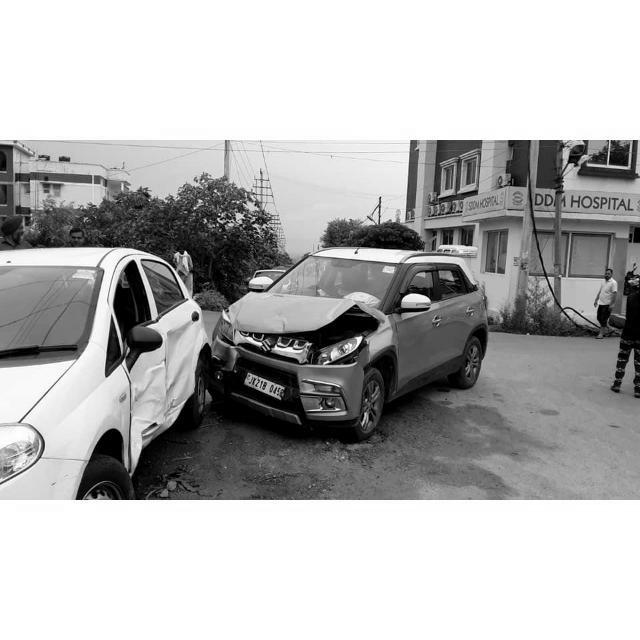bonnet-dent: (221, 293, 388, 360)
doorouter-dent: (127, 342, 168, 449), (164, 317, 201, 401)
front-bumper-dent: (0, 447, 138, 499)
